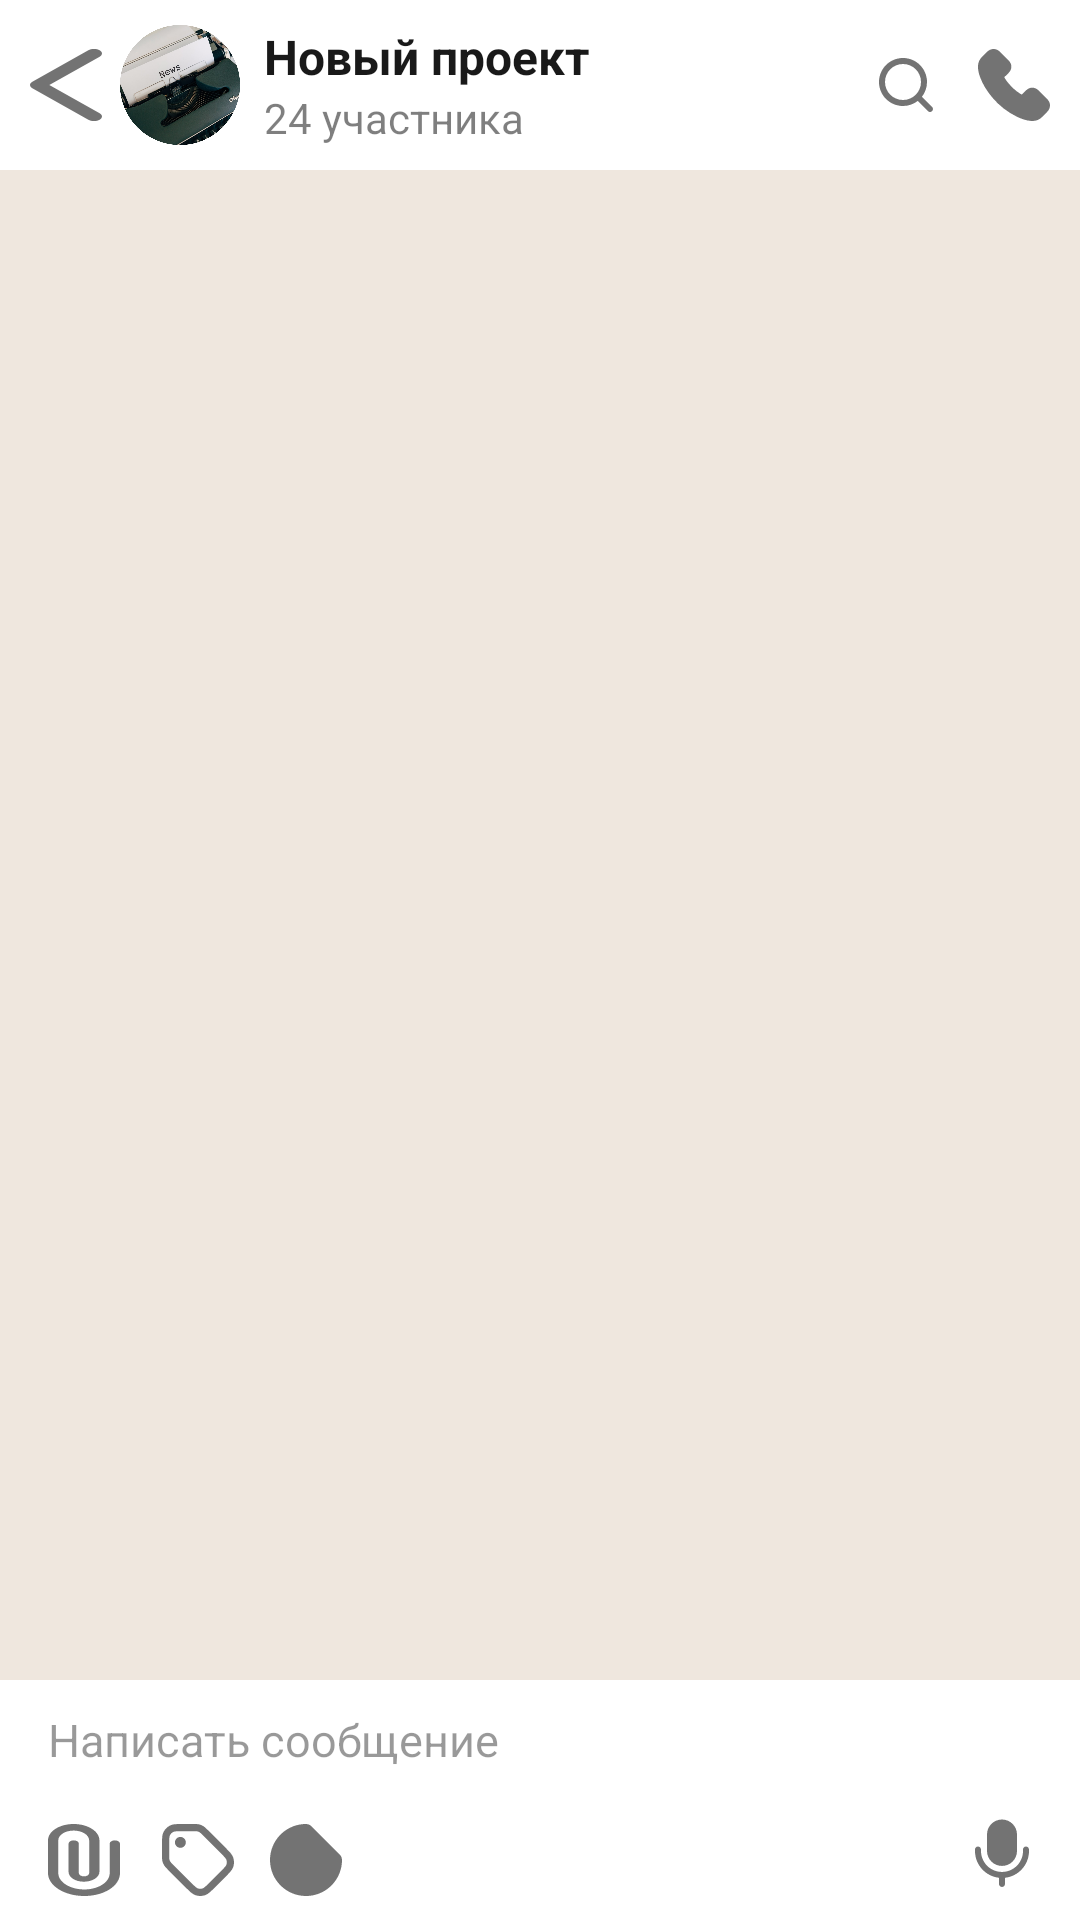

Screen size 1080 x 1920. Icon name, then its box in pixels as rect(x1, y1, x2, y2):
Голосовое сообщение: rect(975, 1819, 1029, 1887)
Метка: rect(162, 1824, 234, 1896)
Назад: rect(30, 49, 102, 121)
Позвонить: rect(978, 49, 1050, 121)
Поиск: rect(879, 58, 933, 112)
Прикрепить: rect(48, 1824, 120, 1896)
Стикер: rect(270, 1824, 342, 1896)
